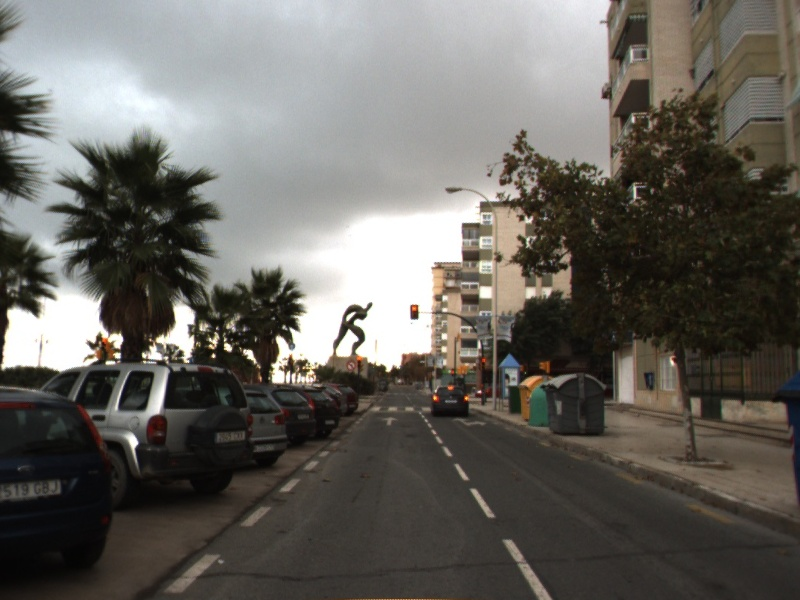STRAIGHT: (379, 415, 400, 427)
STRAIGHT_RIGHT: (449, 415, 489, 428)
